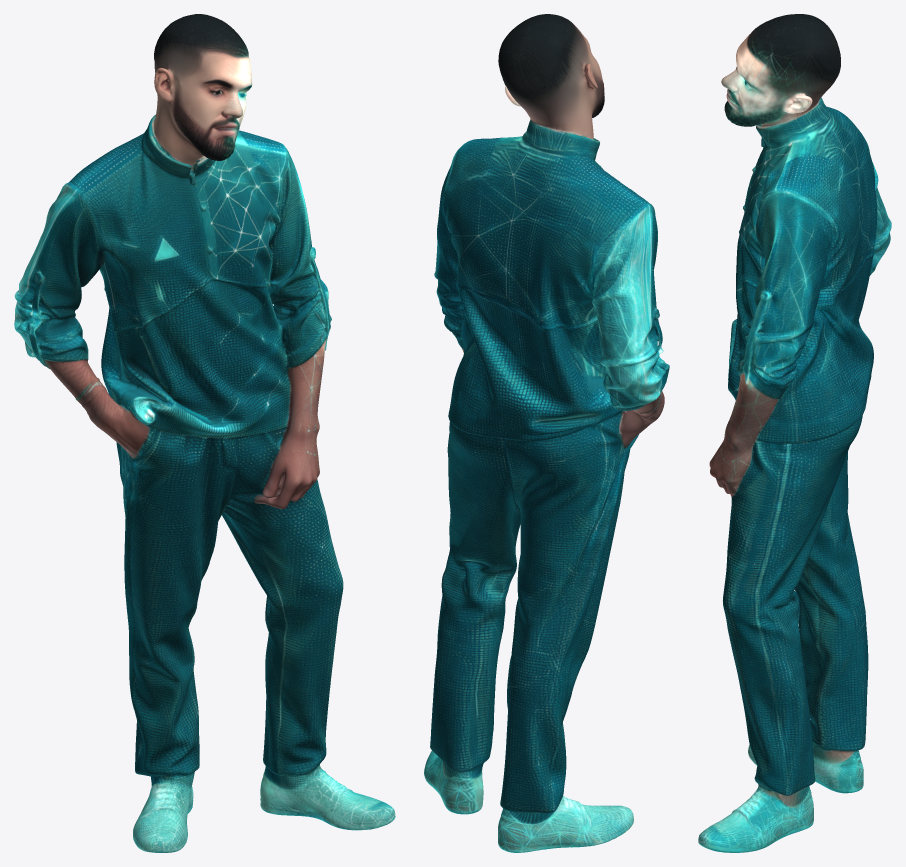
The model's file is Meshy_AI_Cybernetic_Portrait_0504115809_texture.glb.
3 renders of one model, left to right at view 1: azimuth 30°, elevation 25°; view 2: azimuth 150°, elevation 25°; view 3: azimuth 270°, elevation 25°, orthographic. The views are drawn at different scales.
Size of the model in its own units: 0.7429 by 1.9 by 0.433.
Materials: 1 (1 with a texture image).
